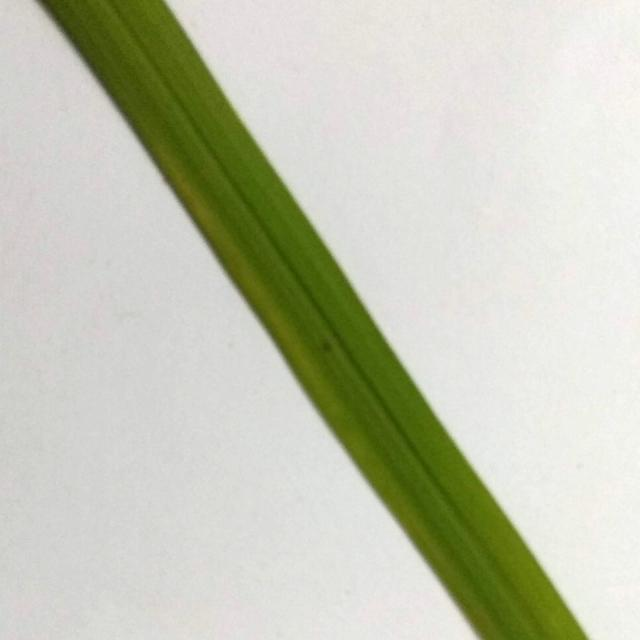healthy: (37, 0, 588, 640)
